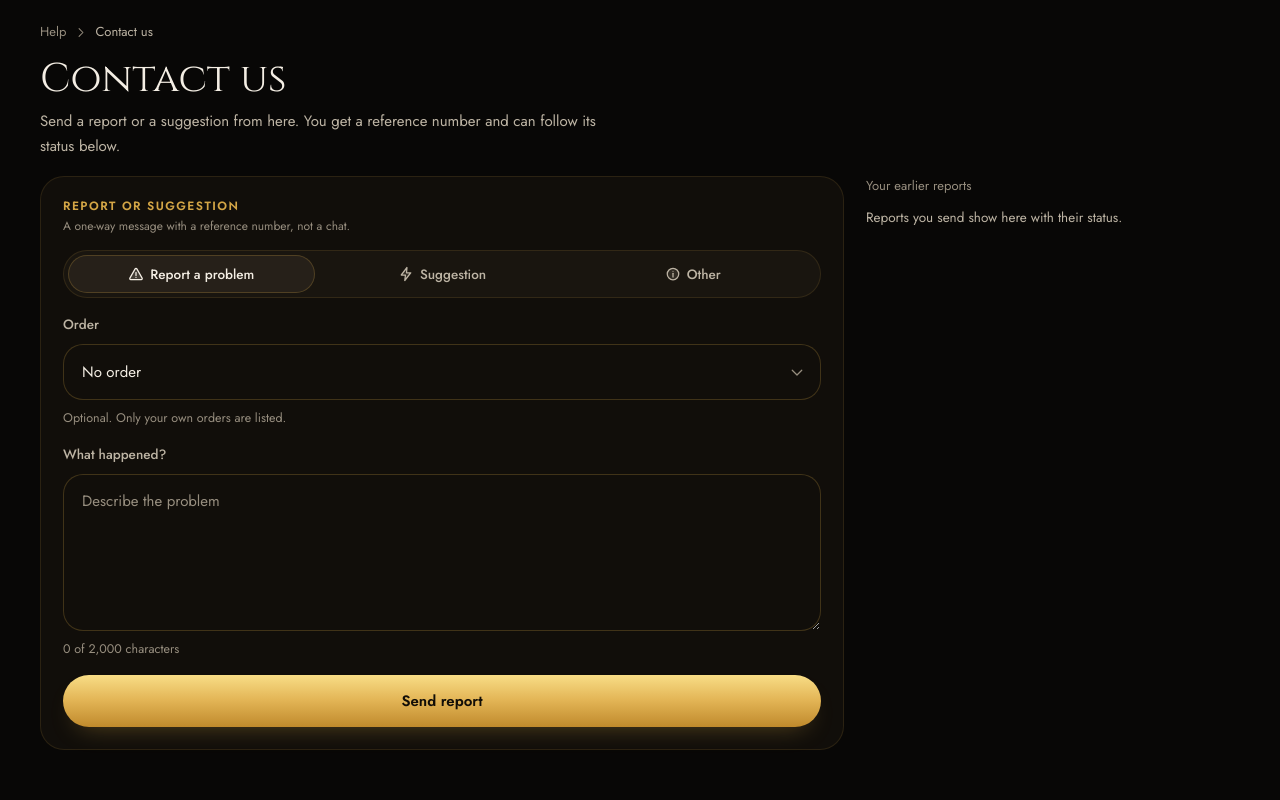
Test: contact: the report form › asks for at least 10 characters and sends nothing until then
The image size is (1280, 800).
Type "Too short" into the text box labelled "What happened?". click: (442, 552)
box: top-left (63, 474), bottom-right (821, 631)
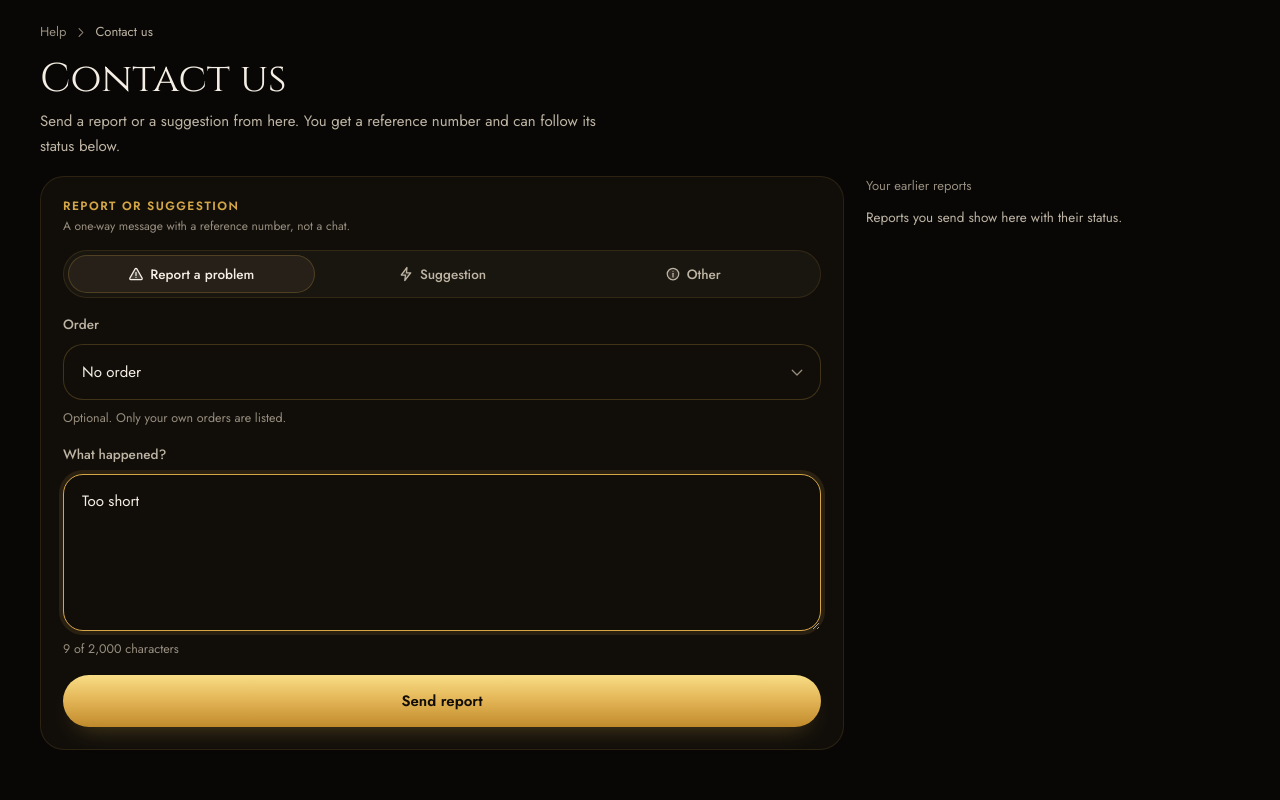
Click the button "Send report". click: (442, 701)
box: top-left (63, 675), bottom-right (821, 727)
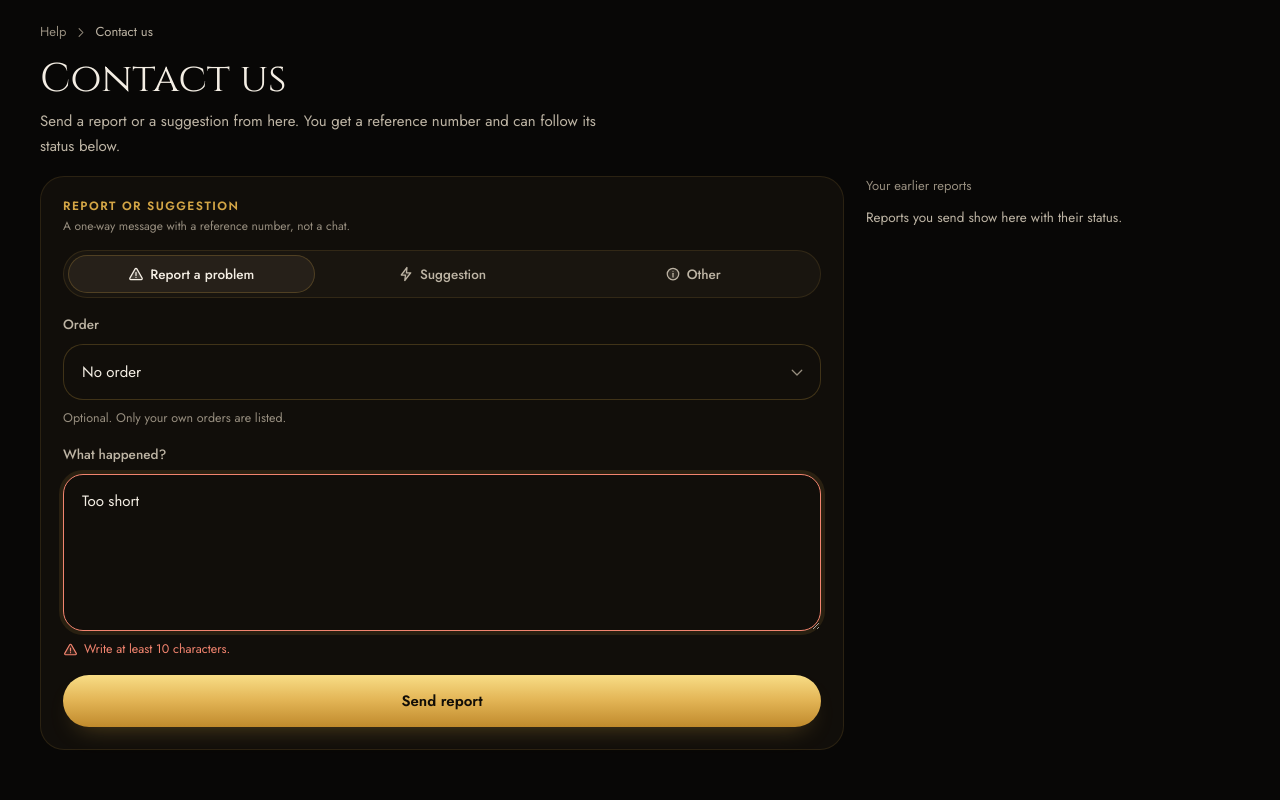
Expected: the text "Write at least 10 characters." is shown, top-left (63, 640), bottom-right (230, 658)
